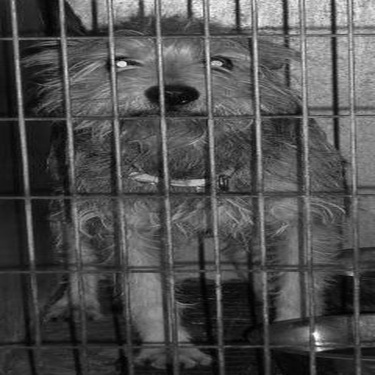dog: (20, 15, 354, 369)
